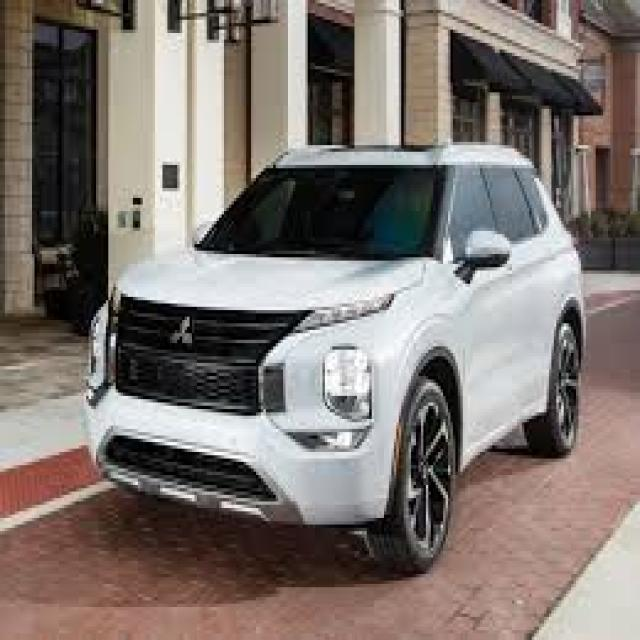light_vehicle: (80, 142, 587, 574)
